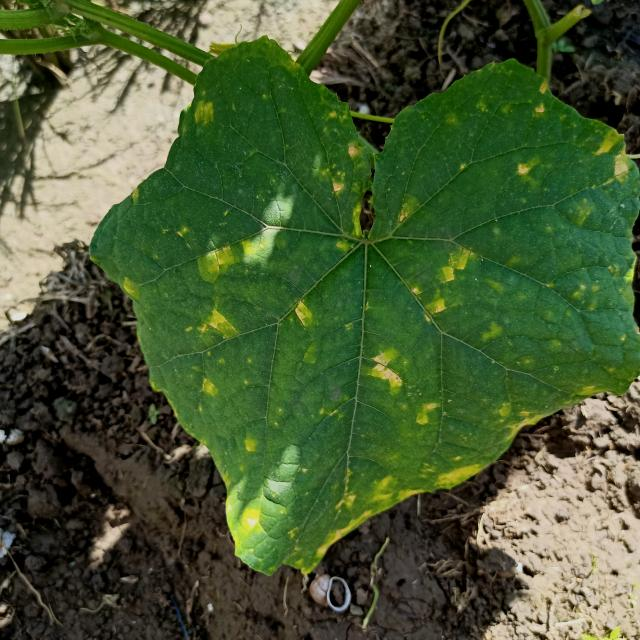disease_cucumber: (140, 59, 640, 569)
